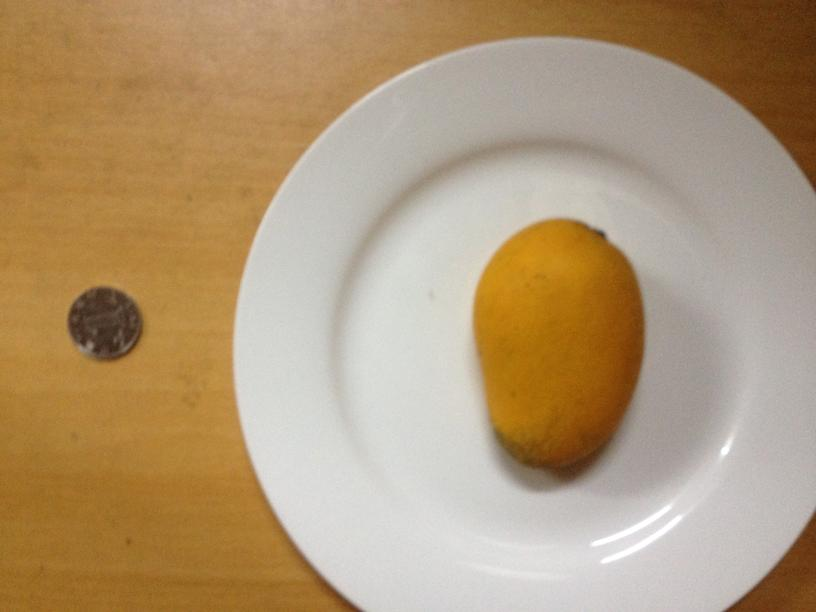coin: (63, 287, 143, 361)
mango: (473, 219, 645, 472)
